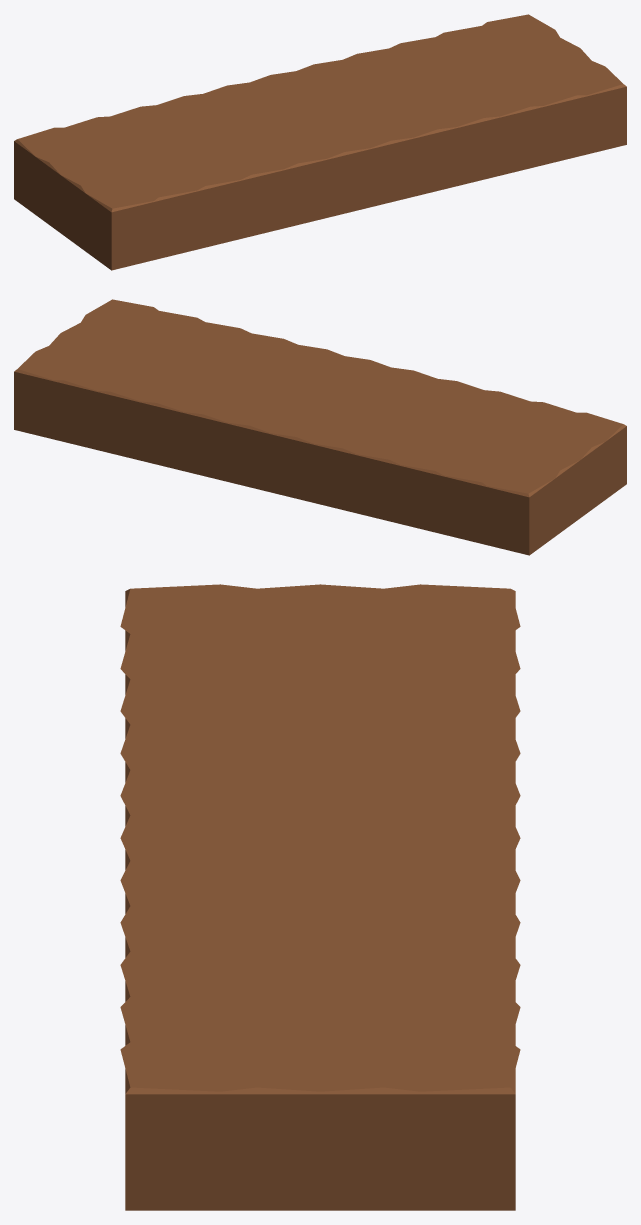
The model's file is mahsulot.glb.
3 views of the same model, one above another, from view 1: azimuth 30°, elevation 25°; view 2: azimuth 150°, elevation 25°; view 3: azimuth 270°, elevation 25° (orthographic). The views are drawn at different scales.
Parts seen in each view (by area): view 1: mahsulot_A; view 2: mahsulot_A; view 3: mahsulot_A.
Part boxes in pixels (<box>): mahsulot_A: <box>14,14,626,270</box>; mahsulot_A: <box>14,299,626,555</box>; mahsulot_A: <box>120,584,520,1210</box>.
Bounding box in the file's own units: 0.36 × 0.04 × 0.12.
